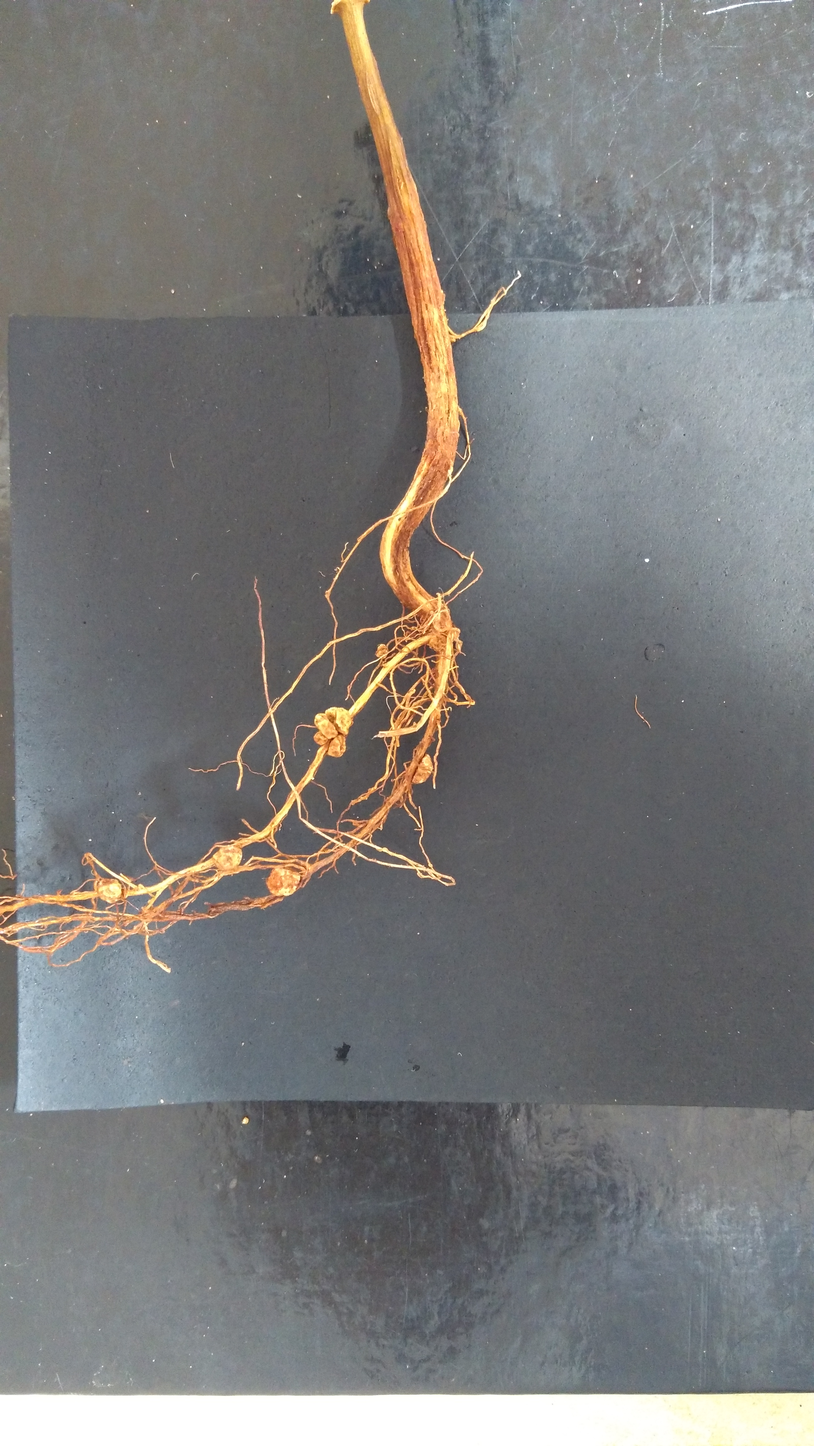nodule: (265, 865, 303, 898), (324, 704, 353, 737), (210, 844, 243, 873), (95, 877, 124, 905), (410, 753, 434, 786), (311, 711, 339, 739), (326, 734, 349, 760), (310, 730, 329, 746), (374, 642, 388, 660)
